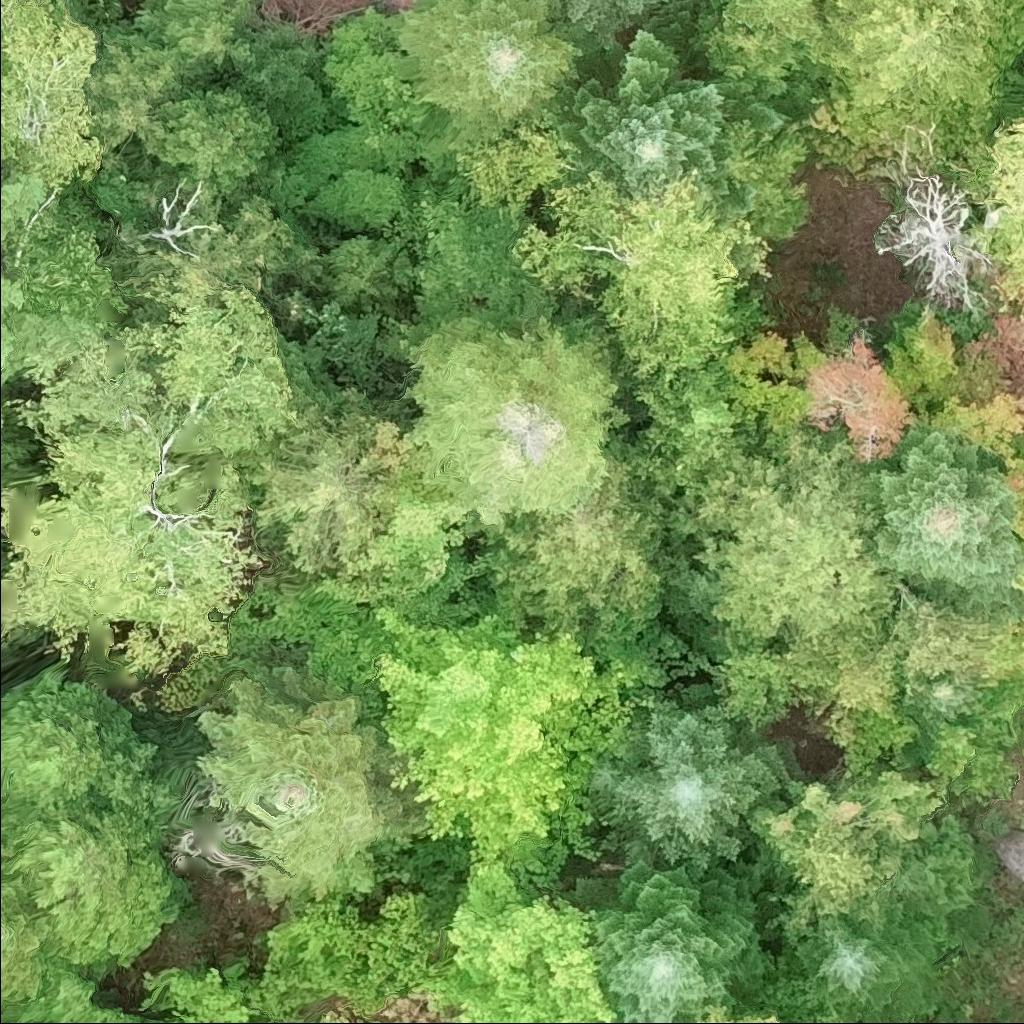crown: (374, 611, 620, 859), (518, 174, 766, 383), (696, 425, 901, 646), (536, 28, 744, 209), (591, 707, 799, 877), (587, 861, 770, 1023), (504, 456, 663, 641), (436, 861, 616, 1023), (820, 0, 1023, 141), (877, 424, 1023, 616), (260, 415, 400, 575), (402, 0, 578, 121), (874, 171, 995, 317), (302, 899, 453, 1013), (796, 907, 941, 1023), (638, 365, 763, 494), (805, 339, 920, 466), (772, 637, 898, 748), (466, 118, 580, 229), (417, 183, 513, 299), (884, 588, 994, 677), (659, 295, 773, 376), (987, 112, 1023, 310), (536, 0, 664, 50), (755, 975, 846, 1023), (707, 80, 783, 132), (912, 676, 979, 724), (704, 0, 816, 22), (1004, 458, 1023, 542), (703, 1009, 785, 1023), (1014, 567, 1023, 601)
